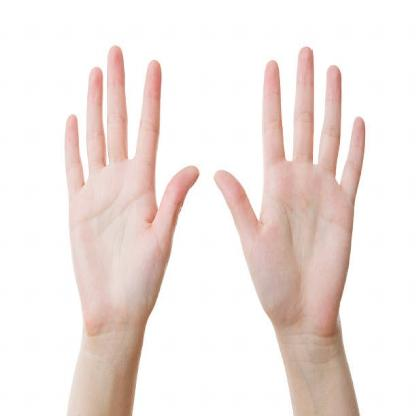palm: (213, 39, 371, 337), (61, 37, 205, 340)
